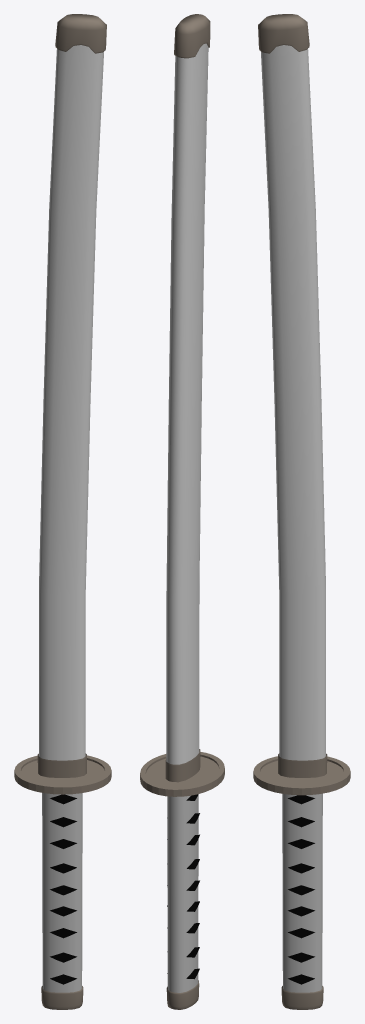
The picture shows the model from 3 angles, left to right: view 1: azimuth 90°, elevation 25°; view 2: azimuth 150°, elevation 25°; view 3: azimuth 270°, elevation 25°; orthographic projection.
Visible parts, largest first — view 1: Cube.216; view 2: Cube.216; view 3: Cube.216.
Part boxes in pixels (<box>): Cube.216: <box>14,14,111,1009</box>; Cube.216: <box>140,14,224,1009</box>; Cube.216: <box>253,14,350,1009</box>.
Bounding box in the file's own units: 30.12 × 402 × 35.85.
